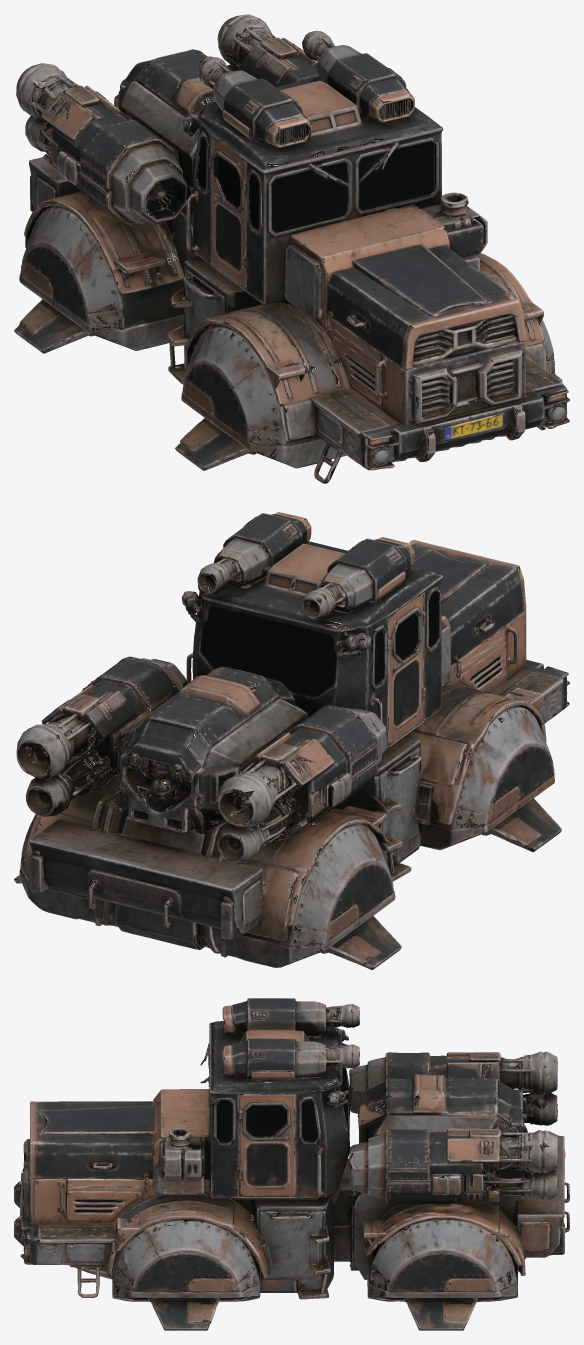
The model's file is rustwing_hauler_browser.v2.glb.
3 views of the same model, one above another, from view 1: azimuth 30°, elevation 25°; view 2: azimuth 150°, elevation 25°; view 3: azimuth 270°, elevation 25° (orthographic). The views are drawn at different scales.
Visible parts, largest first — view 1: rustwing_hauler; view 2: rustwing_hauler; view 3: rustwing_hauler.
Boxes of the visible parts, x1,y1,x2,y2 form: rustwing_hauler: [14, 14, 569, 483]; rustwing_hauler: [14, 512, 569, 969]; rustwing_hauler: [14, 998, 569, 1330].
Bounding box in the file's own units: 8.35 × 6.62 × 14.01.
1 material, 1 textured.
